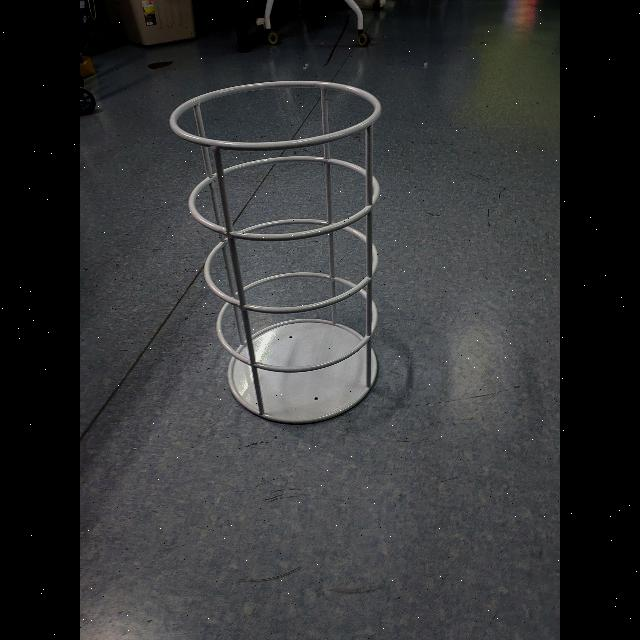S: (166, 77, 384, 427)
